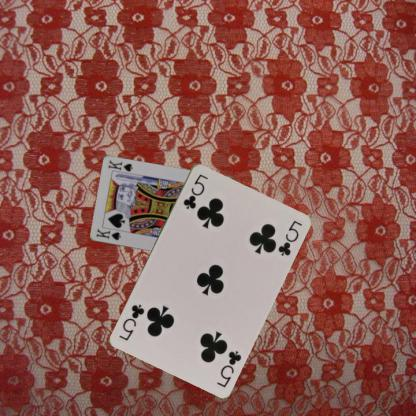5c: (180, 170, 209, 210), (214, 348, 243, 388)
Ks: (94, 226, 122, 242)
